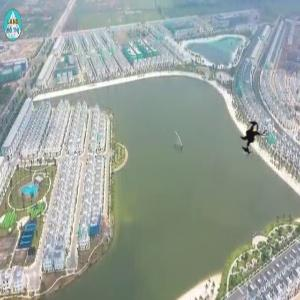drone: (228, 113, 281, 166)
